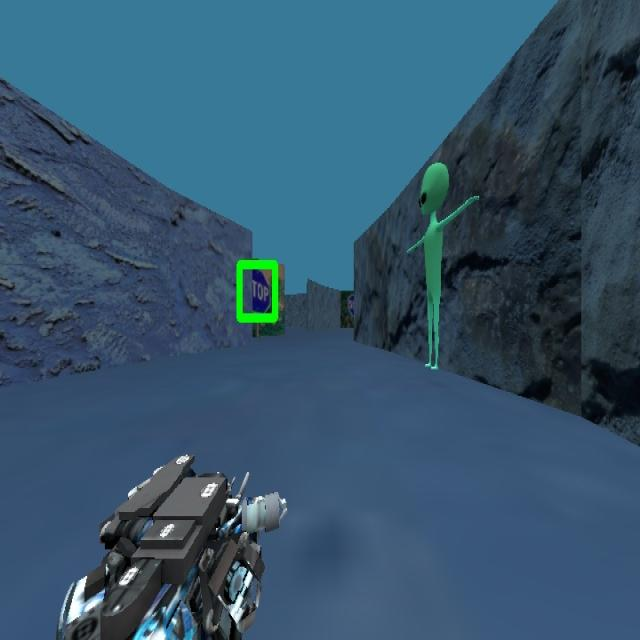Alien: (405, 160, 480, 369)
Stop_Sign: (235, 257, 279, 324)
